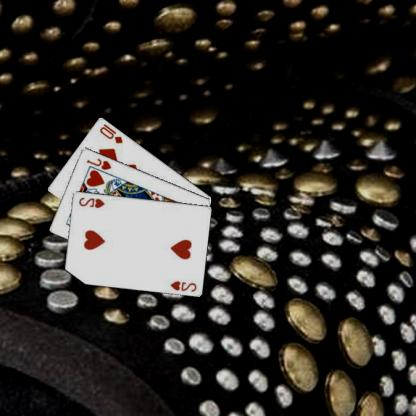10D: (99, 121, 126, 144)
2H: (78, 194, 107, 210), (169, 278, 199, 292)
JH: (86, 156, 114, 171)
